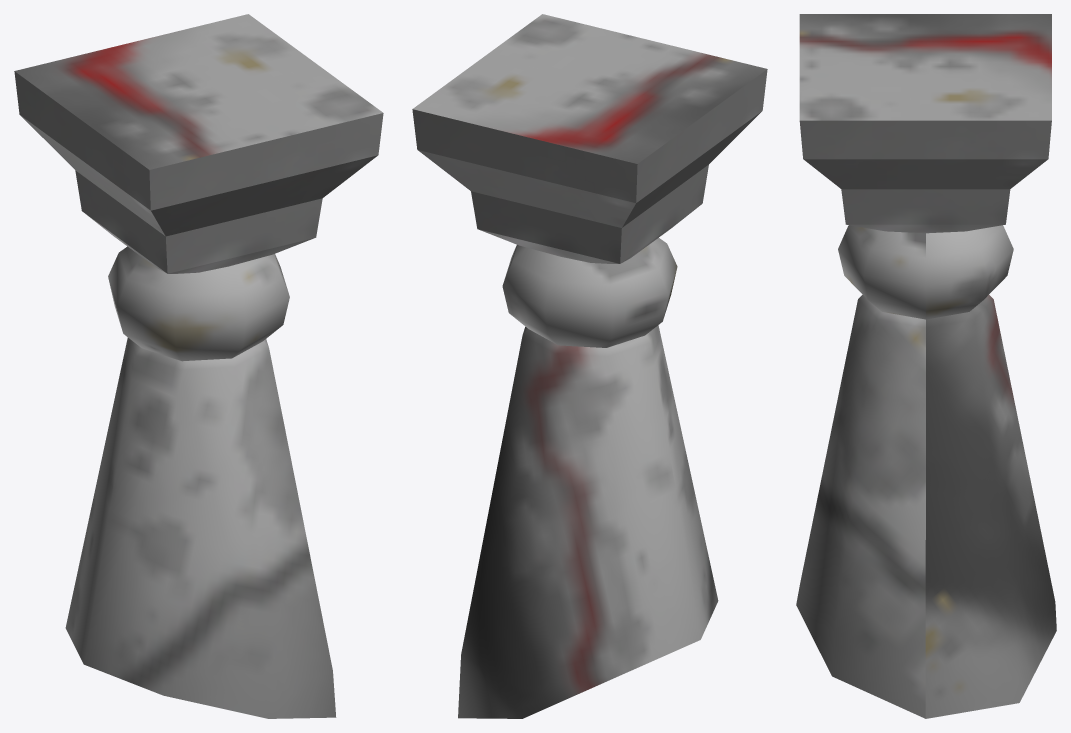
Rendered from Broken_Railing_2_FINAL.fbx.
3 views of the same model, side by side, from view 1: azimuth 30°, elevation 25°; view 2: azimuth 150°, elevation 25°; view 3: azimuth 270°, elevation 25° (orthographic). The views are drawn at different scales.
Parts seen in each view (by area): view 1: Broken_Railing_2; view 2: Broken_Railing_2; view 3: Broken_Railing_2.
Boxes of the visible parts, left/top/right/bottom form: Broken_Railing_2: left=14, top=14, right=383, bottom=718; Broken_Railing_2: left=412, top=14, right=767, bottom=718; Broken_Railing_2: left=796, top=14, right=1056, bottom=718.
Size of the model in its own units: 12.77 by 32.36 by 12.83.
